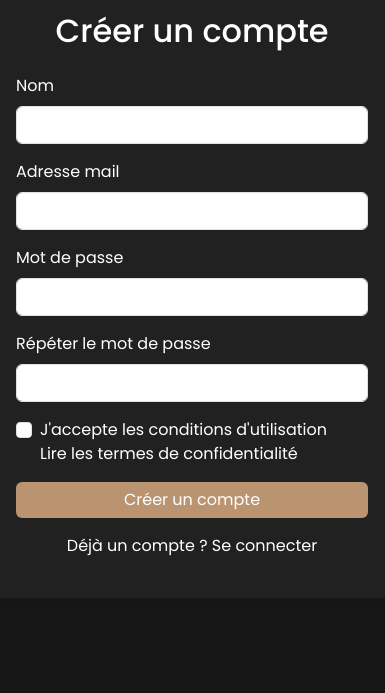
Test: SignupPage.vue - Form Validation › should display error if username is too short
In the field with id "username": (192, 125) [16, 106, 368, 144], type "ab"
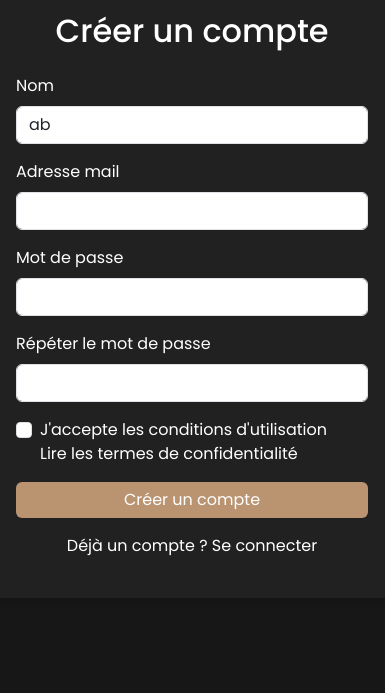
Submit the form
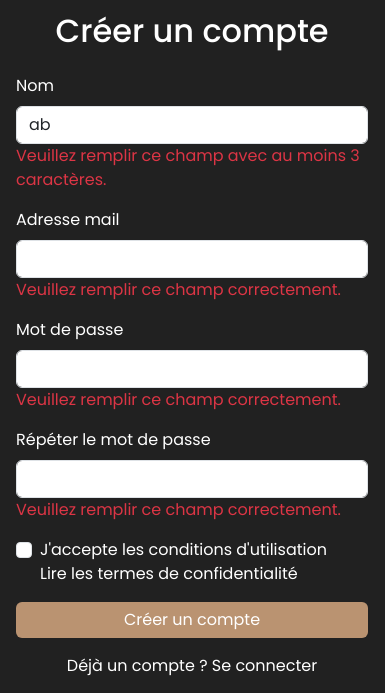
Expected: the message "Veuillez remplir ce champ avec au moins 3 caractères." is shown, [16, 144, 360, 191]
